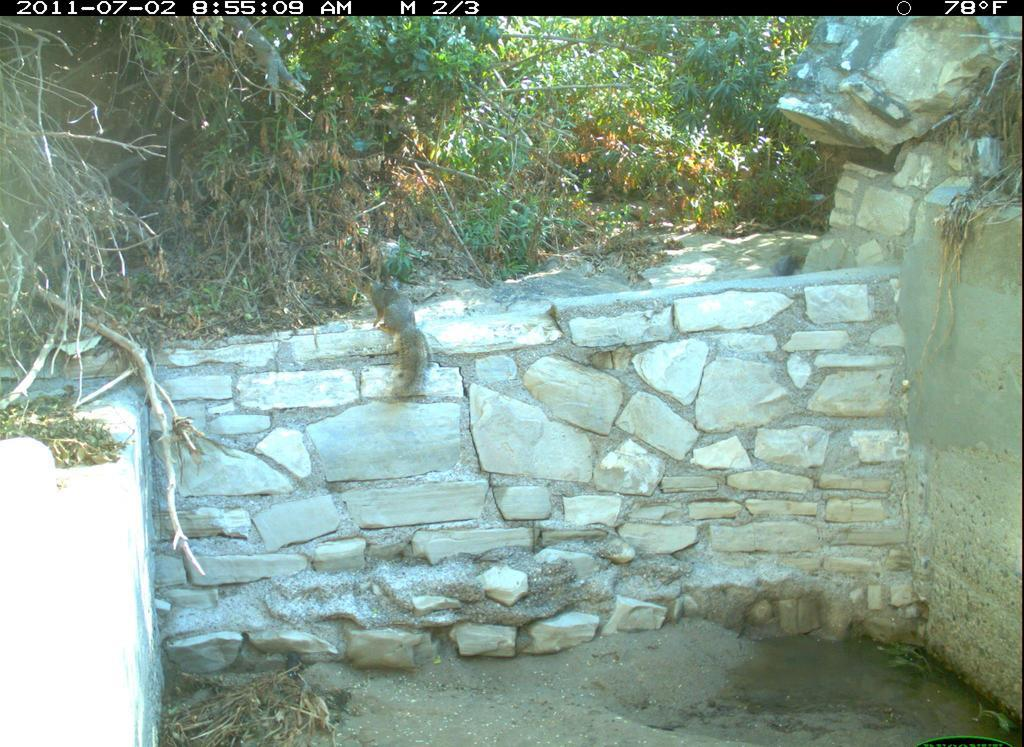squirrel: (358, 250, 447, 409)
